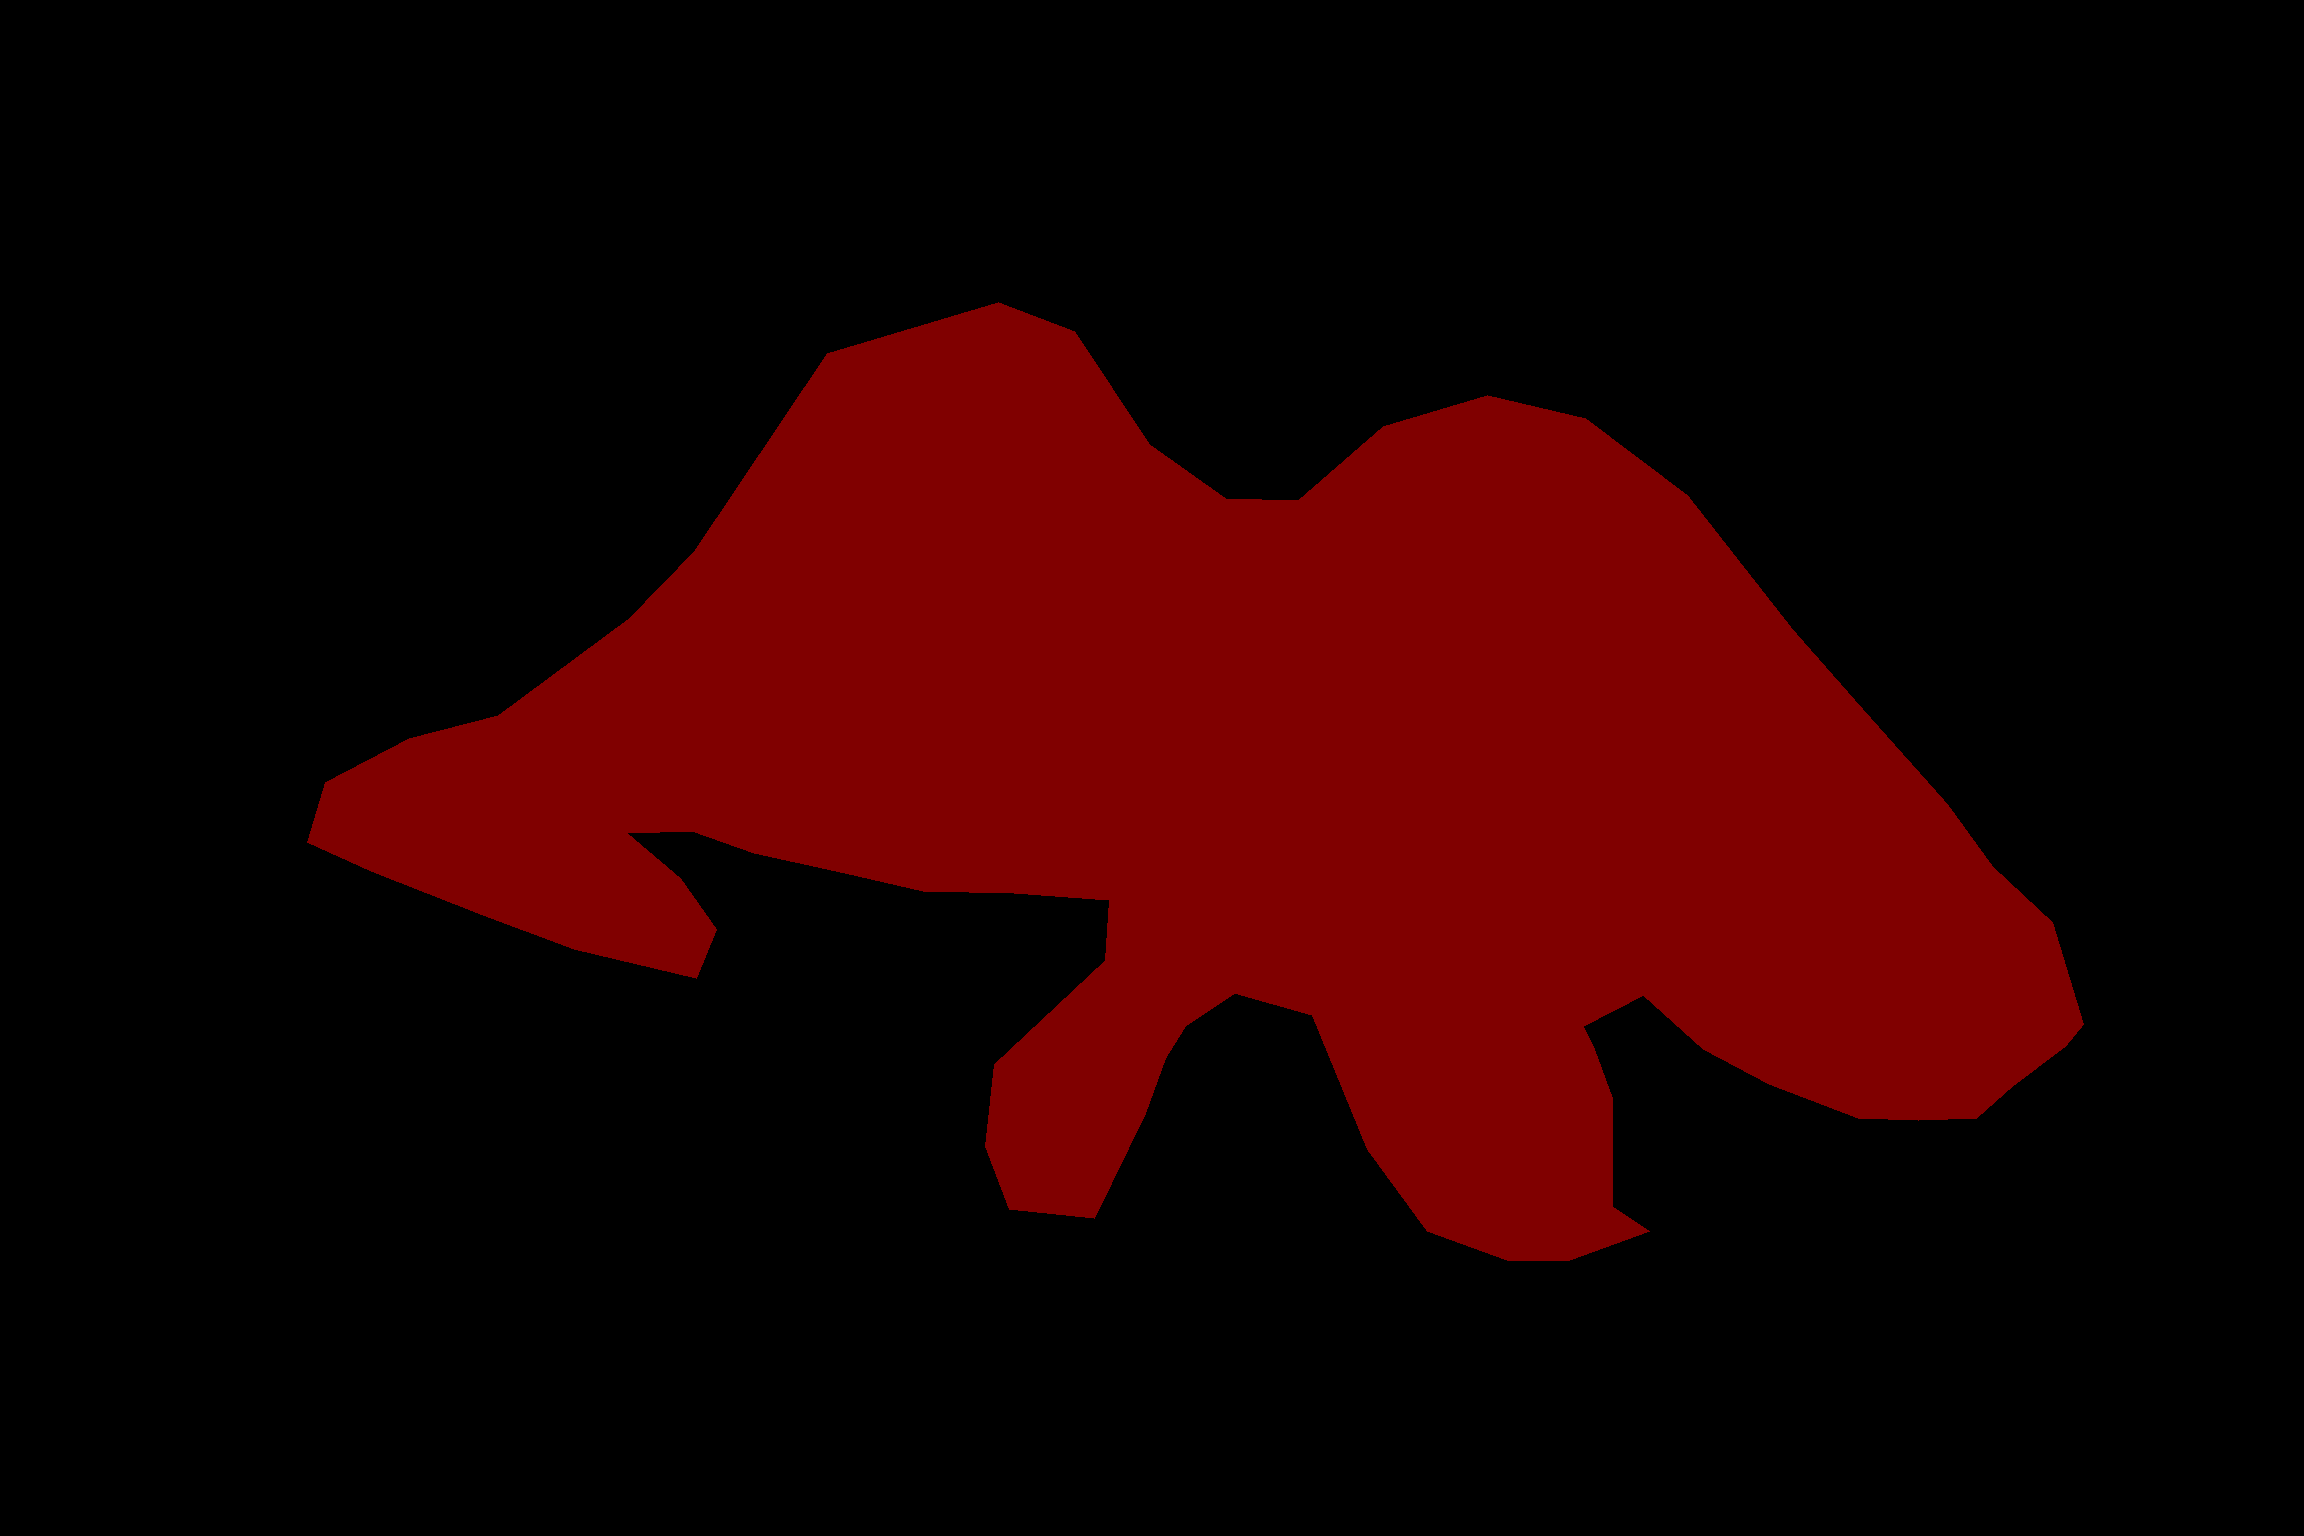fire: (307, 302, 2083, 1260)
